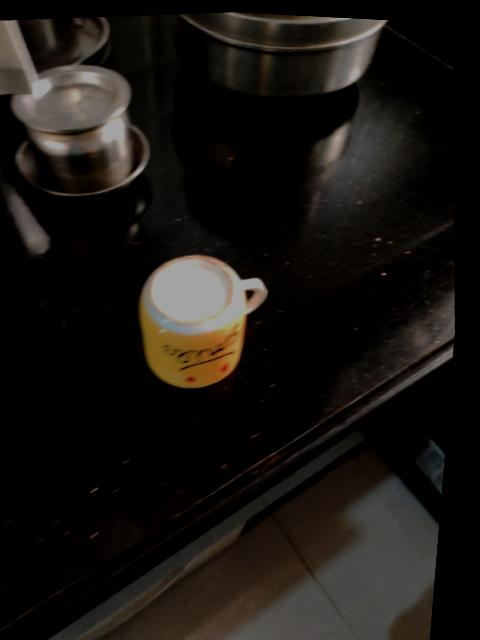Cup: (138, 255, 268, 388), (10, 65, 135, 194)
Plate: (13, 125, 150, 202), (33, 16, 110, 72)
